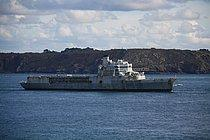MIL_Ship: (18, 53, 176, 93)
